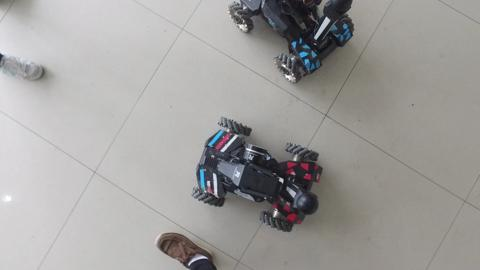chariot: (190, 116, 329, 236), (228, 1, 361, 88)
